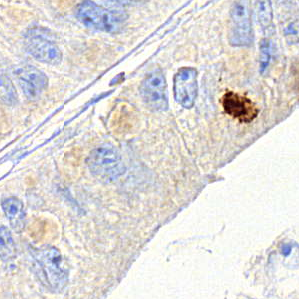Lymphocyte: (220, 89, 261, 125)
